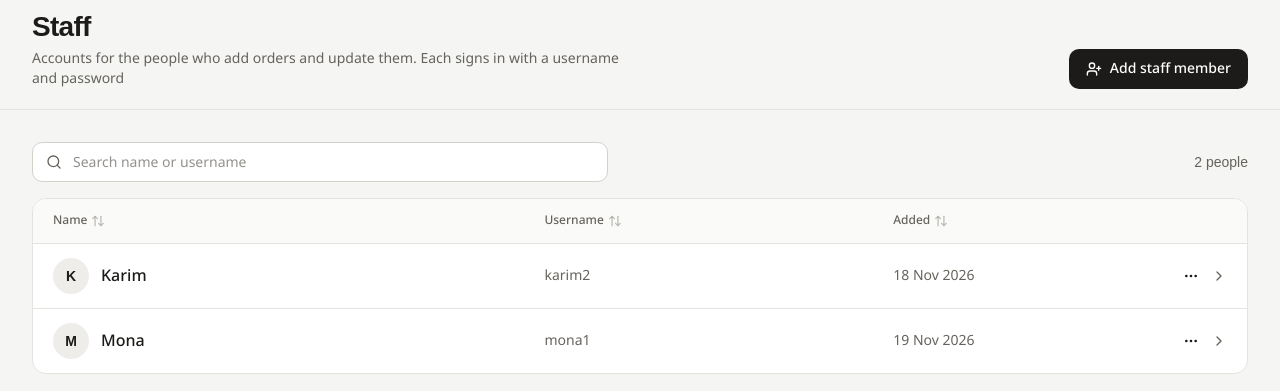
it: StaffManager › finds staff by name or username
Type "kar" into the search field at (320, 162), box [32,142,608,182]
Then press Enter
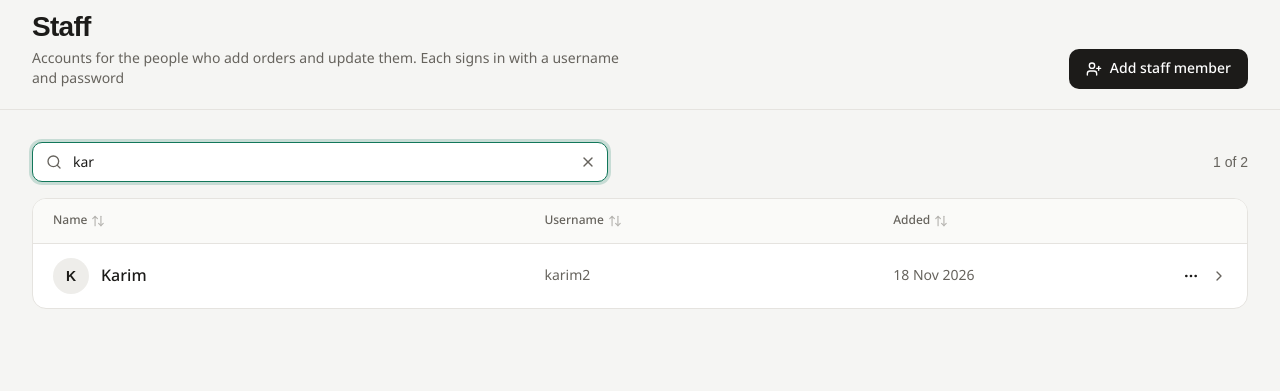
Check: the text "mona1" is not shown
